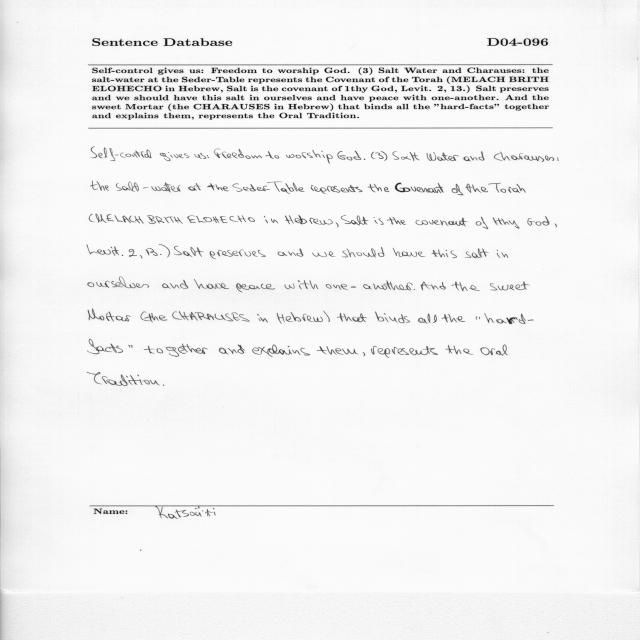word: (216, 181, 305, 194), (87, 372, 160, 386), (326, 281, 412, 291), (172, 311, 250, 322), (91, 147, 152, 161), (144, 344, 208, 357), (371, 346, 438, 358), (252, 344, 310, 357), (88, 277, 149, 288), (286, 150, 333, 164), (116, 182, 181, 192), (494, 152, 554, 162), (88, 309, 131, 322), (277, 312, 323, 324), (187, 216, 255, 224), (395, 183, 444, 194), (485, 313, 534, 324), (88, 339, 123, 354), (210, 250, 266, 259), (214, 149, 262, 159), (285, 215, 333, 225), (311, 185, 363, 194), (342, 247, 385, 257), (375, 312, 410, 324), (416, 218, 468, 226), (87, 245, 123, 256), (488, 183, 526, 193), (106, 214, 144, 224), (317, 346, 358, 355), (236, 283, 275, 292), (490, 282, 529, 291), (194, 279, 229, 289), (480, 344, 508, 356), (174, 246, 204, 257), (147, 215, 183, 224), (341, 215, 369, 226), (285, 280, 319, 289), (493, 218, 520, 229), (393, 248, 426, 257), (445, 345, 474, 355), (427, 152, 459, 161), (452, 282, 480, 292), (337, 313, 367, 322), (160, 152, 189, 161), (219, 345, 245, 355), (162, 280, 189, 289), (338, 151, 362, 161), (465, 249, 489, 259), (431, 250, 457, 259), (420, 282, 446, 291), (527, 216, 550, 226), (145, 313, 167, 323), (464, 152, 485, 162), (418, 313, 437, 324), (278, 249, 304, 257), (466, 184, 488, 193), (442, 314, 466, 322), (91, 181, 109, 191), (401, 152, 420, 161), (368, 184, 389, 192), (90, 214, 107, 223), (387, 217, 406, 225), (476, 217, 488, 229), (312, 251, 336, 257), (159, 245, 170, 258), (452, 184, 463, 195), (375, 151, 387, 161), (265, 151, 279, 159), (188, 183, 201, 191), (257, 314, 268, 323), (264, 216, 278, 223), (146, 248, 158, 256), (141, 312, 151, 321), (497, 250, 508, 258), (323, 310, 330, 322), (374, 217, 384, 225), (195, 153, 207, 159), (129, 249, 137, 257), (393, 151, 400, 160), (207, 184, 215, 191), (371, 152, 375, 159), (476, 316, 480, 320), (336, 223, 339, 228), (554, 224, 557, 228), (129, 345, 133, 348), (140, 255, 142, 259), (363, 352, 365, 356), (207, 155, 209, 158), (557, 158, 559, 161), (163, 384, 165, 386), (413, 289, 415, 290), (364, 159, 365, 160), (160, 254, 161, 255)
